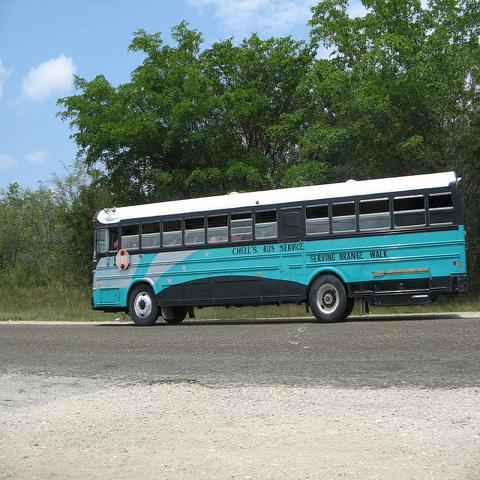bus: (89, 169, 470, 327)
